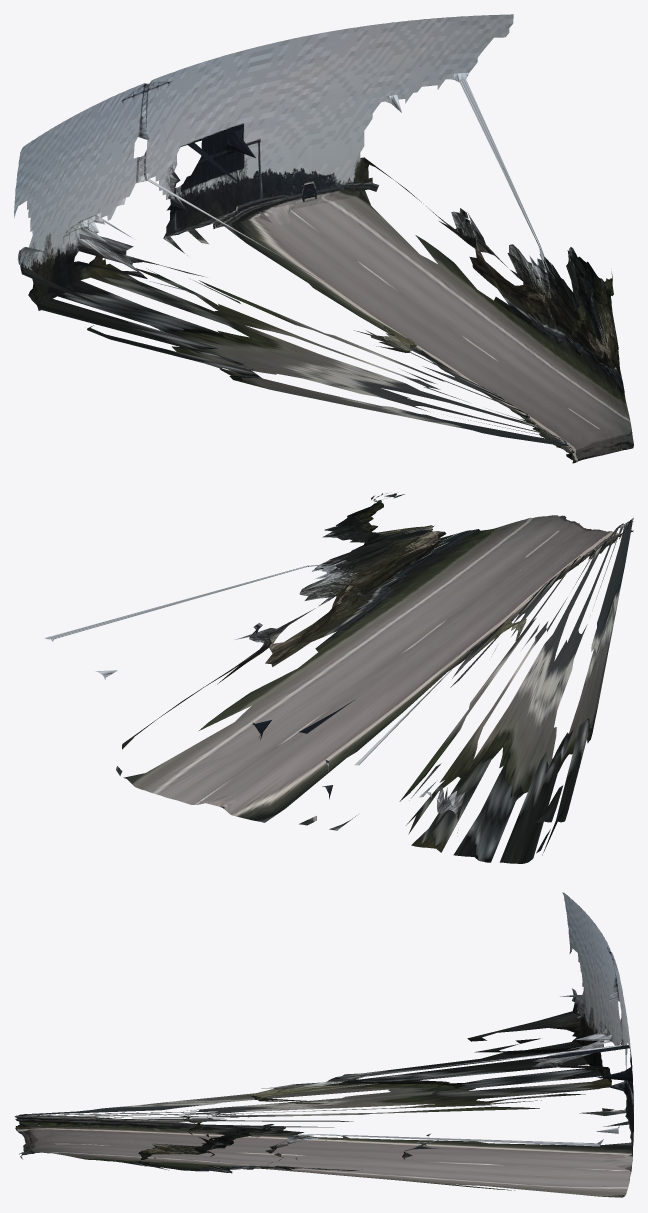
3 views of the same model, one above another, from view 1: azimuth 30°, elevation 25°; view 2: azimuth 150°, elevation 25°; view 3: azimuth 270°, elevation 25° (orthographic). The views are drawn at different scales.
Parts seen in each view (by area): view 1: defaultobject; view 2: defaultobject; view 3: defaultobject.
Boxes of the visible parts, <box> form: defaultobject: <box>14,14,633,463</box>; defaultobject: <box>44,493,633,863</box>; defaultobject: <box>14,892,633,1197</box>.
Size of the model in its own units: 37.5 by 13.23 by 44.82.
Materials: 1 (1 with a texture image).
